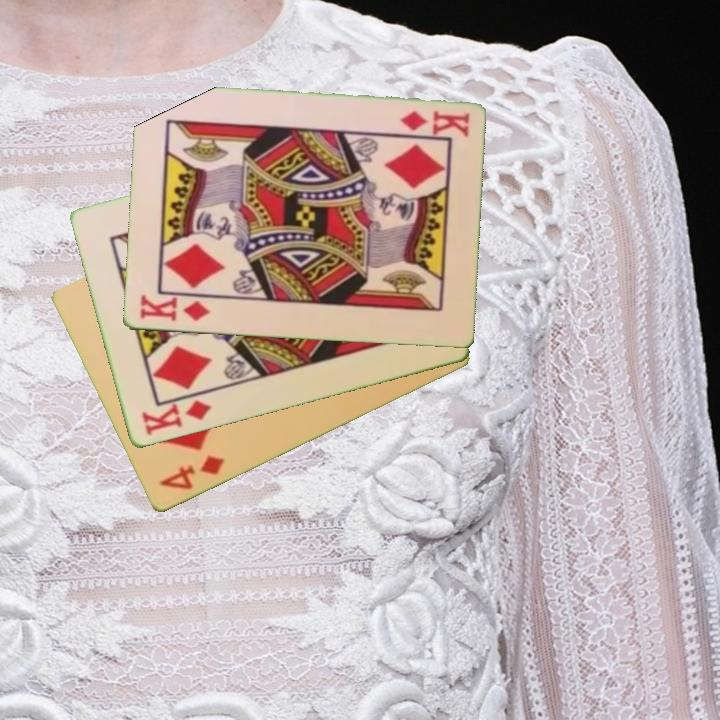4d: (155, 452, 228, 494)
Kd: (137, 397, 215, 439), (136, 292, 212, 325), (396, 108, 472, 139)
